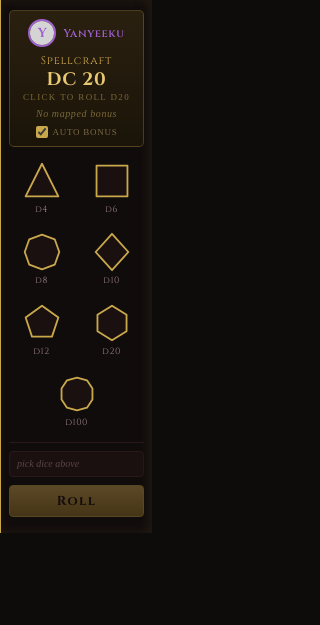
Test: DiceTray — AC-009 unmapped skill › shows "No mapped bonus for Spellcraft" note in history
The width and height of the screenshot is (320, 625).
Click the button titled "d20" at (112, 330), box [79,297,144,363]
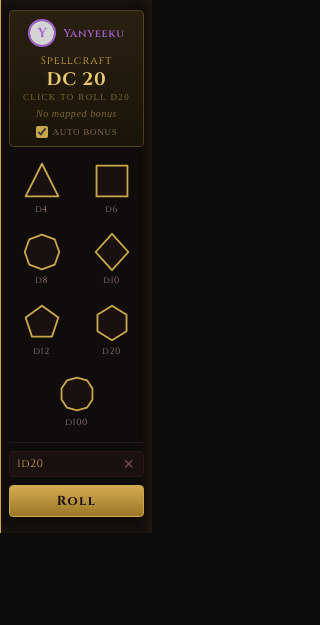
Click the button "Roll" at (76, 501), box [9,485,144,517]
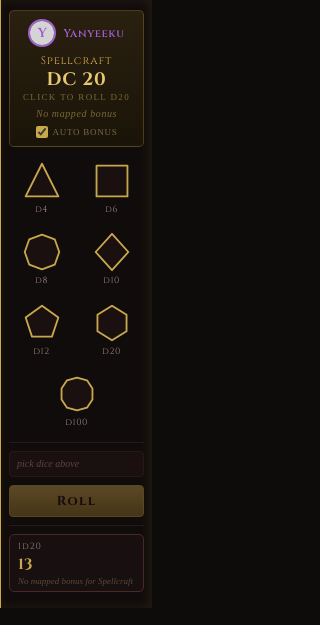
Expected: the text "No mapped bonus for Spellcraft" is shown, [18,576,135,586]
